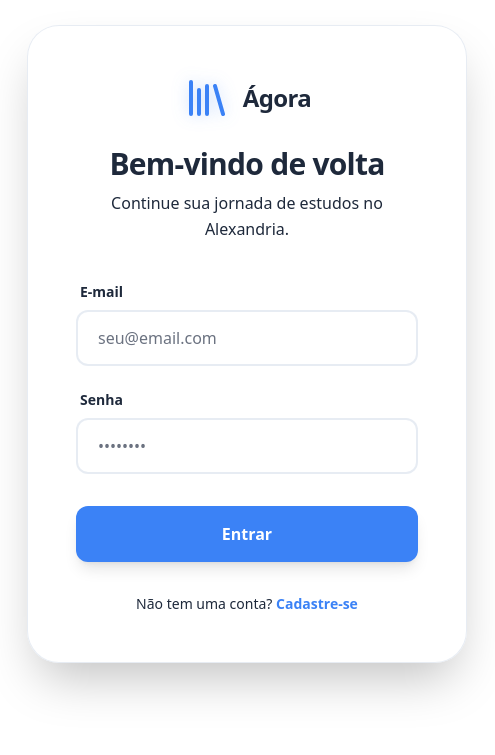
AuthForm Component › should show validation error for invalid email
This screenshot has width=495, height=755.
In the field labelled "E-mail": (247,338) x1=76 y1=310 x2=418 y2=366, type "invalid-email"
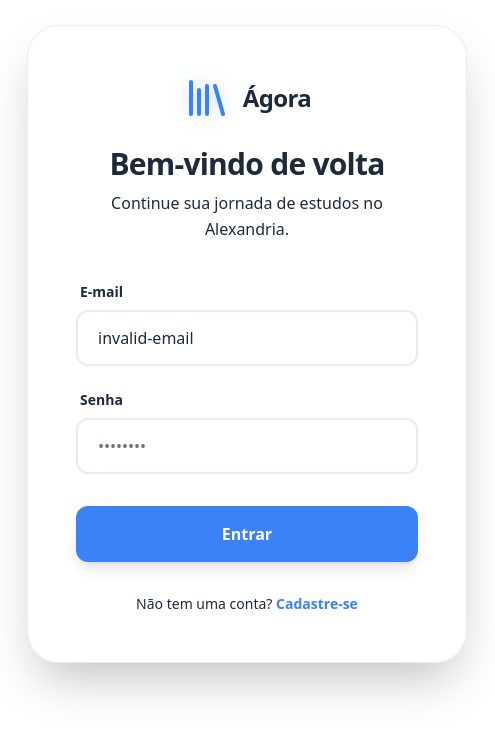
Note: Tenta submeter o formulário
Submit the form named "auth-form"
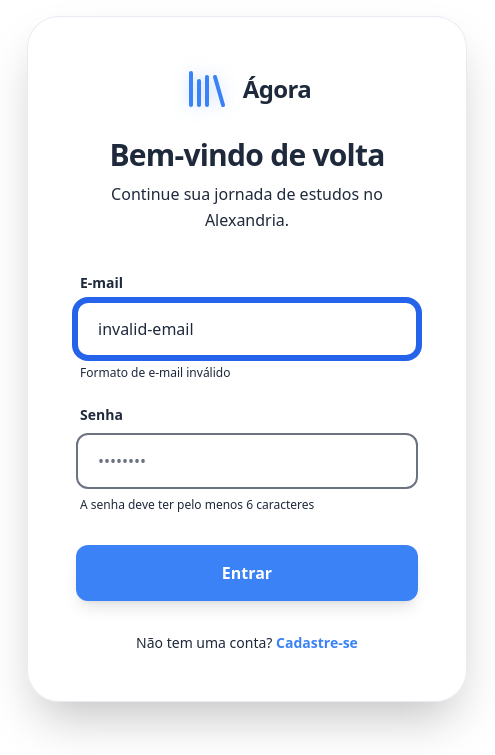
Check: the text "Formato de e-mail inválido" is shown, box x1=80 y1=364 x2=230 y2=381
